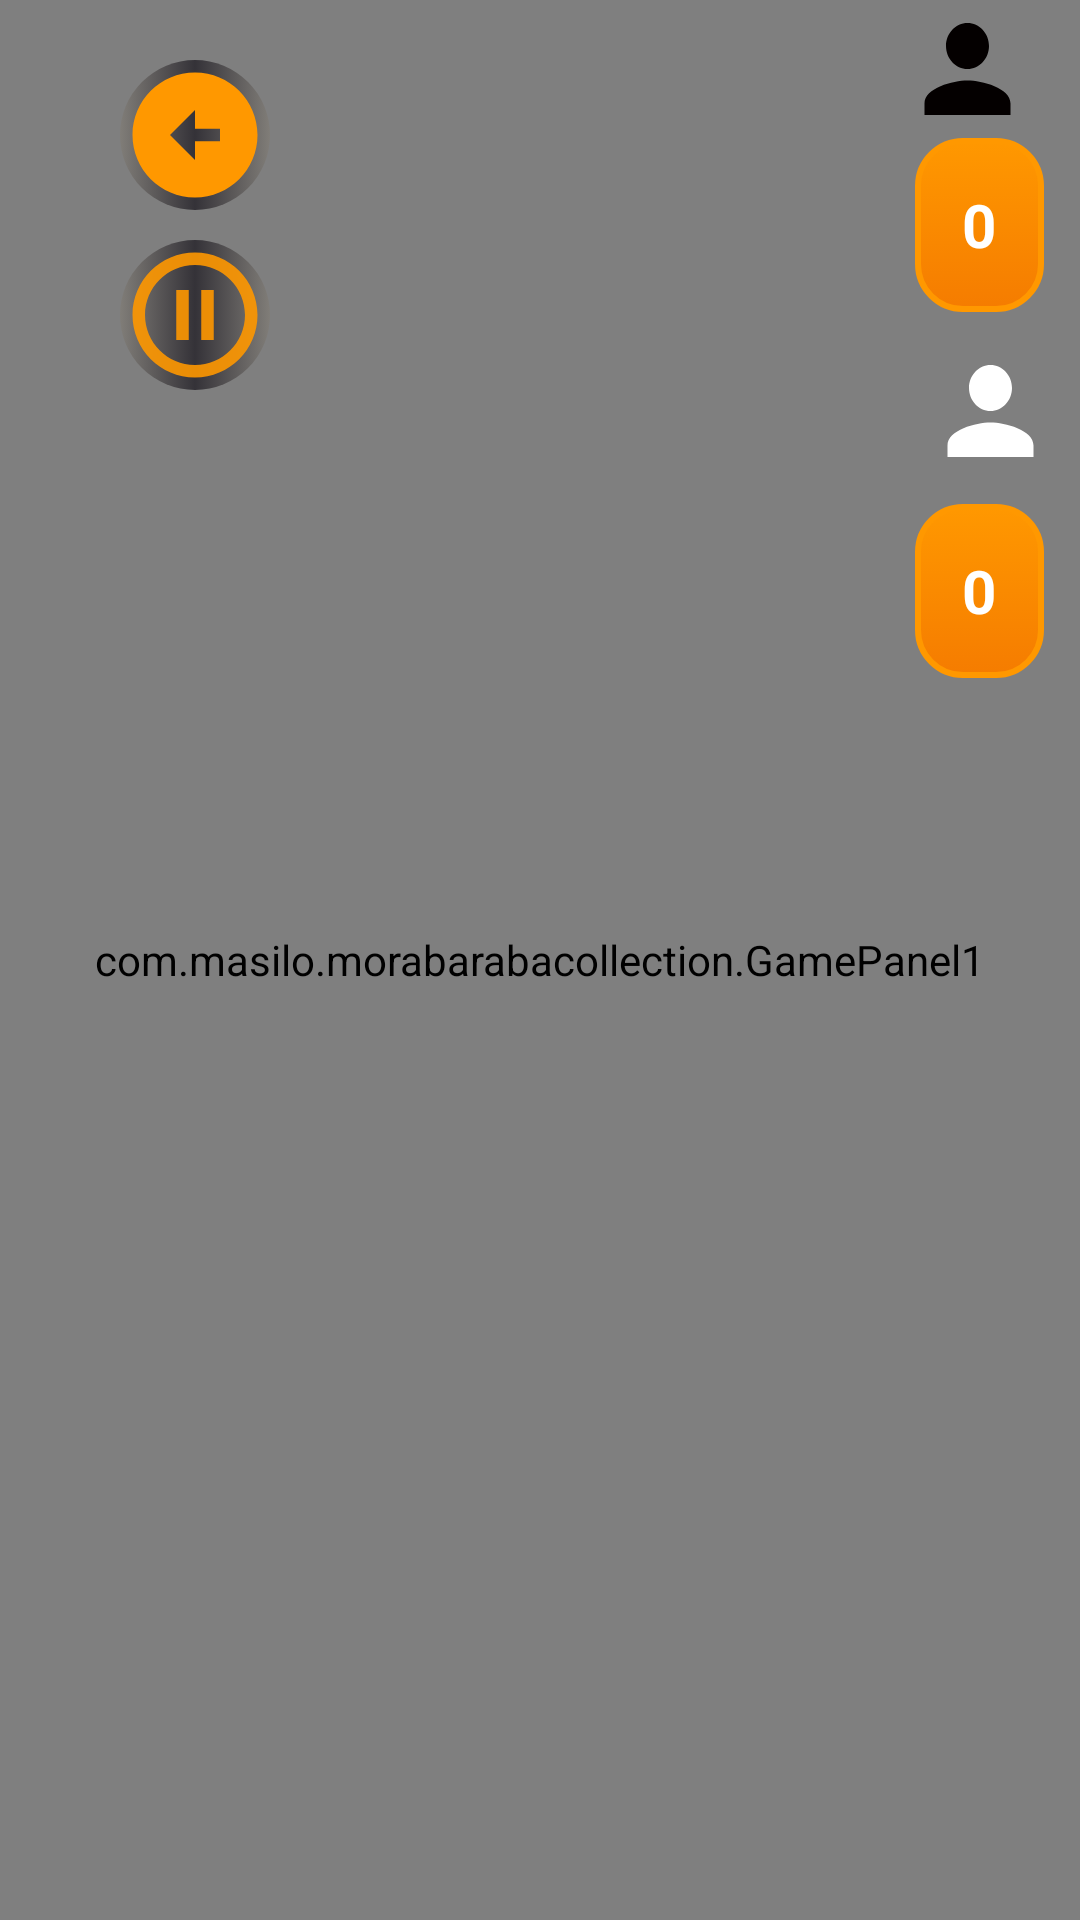

Icons on this 1080px×1920px Android screen, each with its box as bbox(x1, y1, x2, y2):
player: bbox(924, 23, 1011, 115), bbox(947, 365, 1034, 457)
